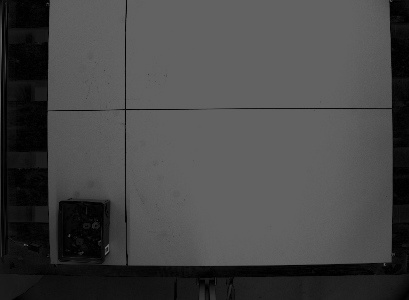klts: (54, 196, 111, 264)
